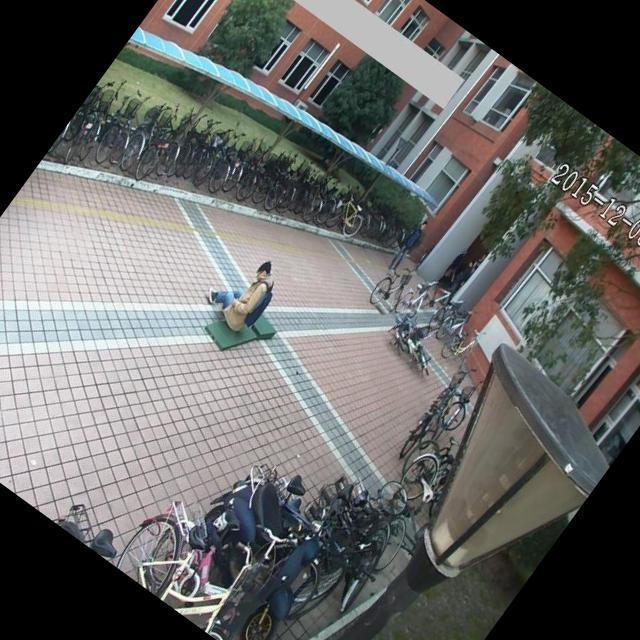person: (197, 238, 293, 342), (380, 210, 436, 278)
